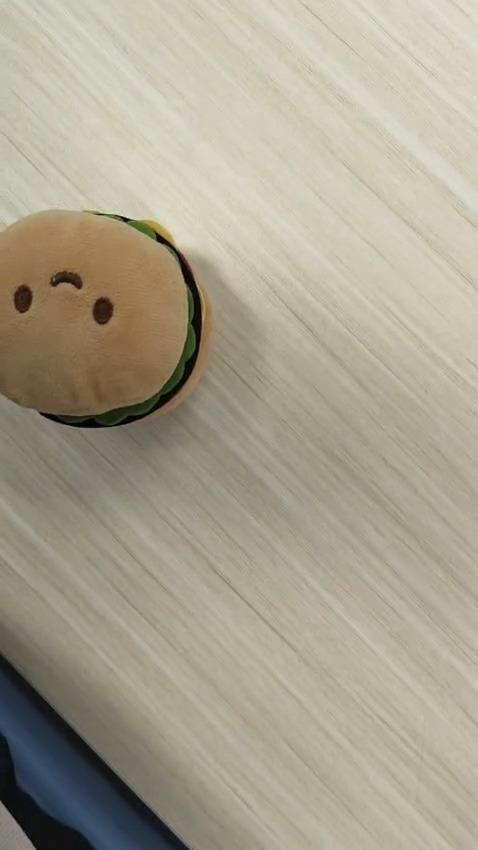hamburger: (0, 202, 210, 430)
